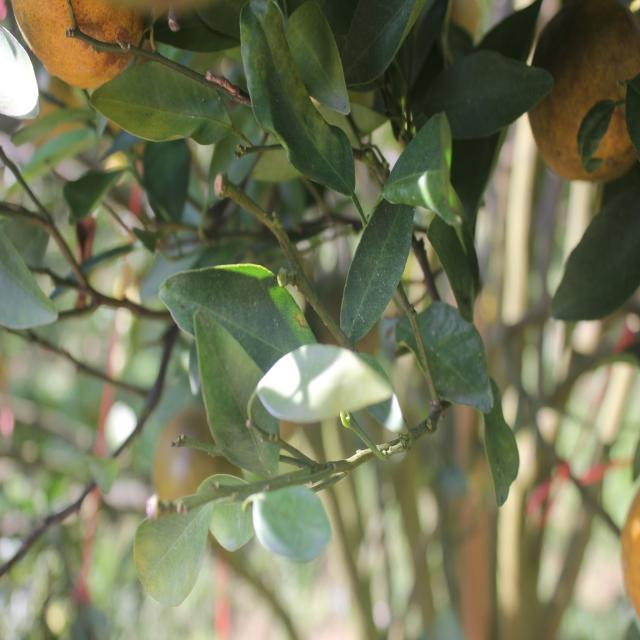canker: (240, 290, 305, 356), (430, 317, 480, 394), (351, 241, 396, 305)
